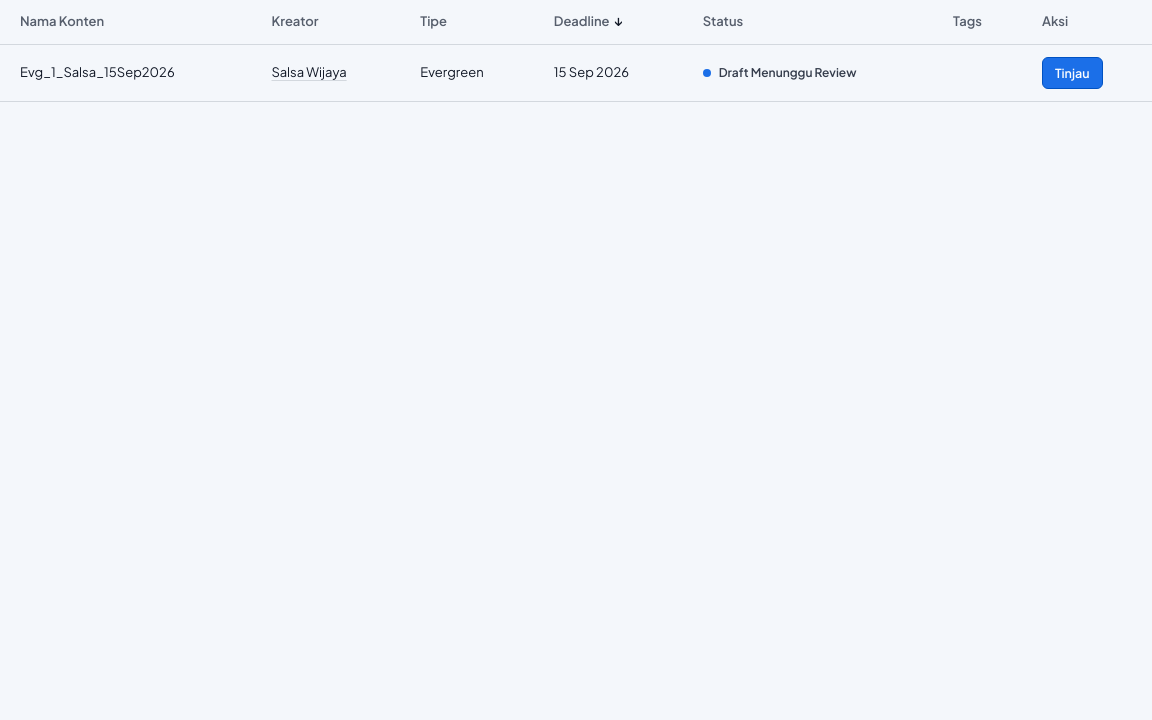
Test: ContentPlanBoard › opens the panel from a row and puts the content in the address
Click the button with aria-label "Tinjau Evg_1_Salsa_15Sep2026". click: x=1072, y=73
box: left=1042, top=56, right=1103, bottom=89
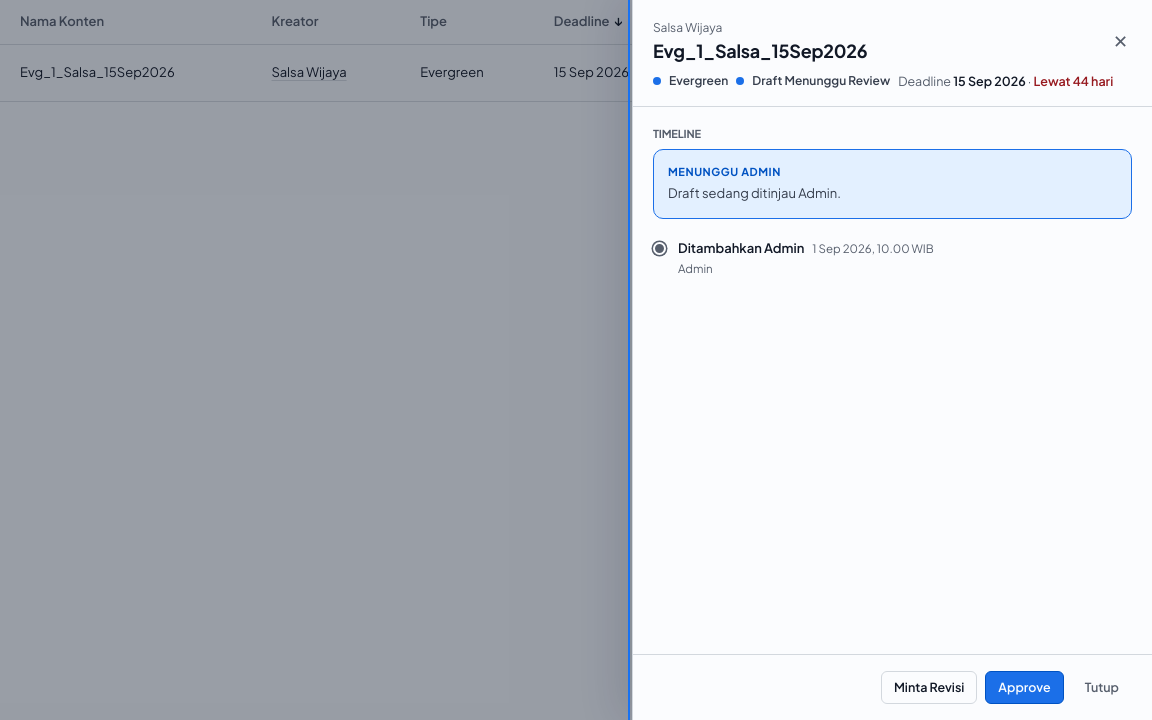
Expected: the dialog is shown, left=632, top=0, right=1151, bottom=719
